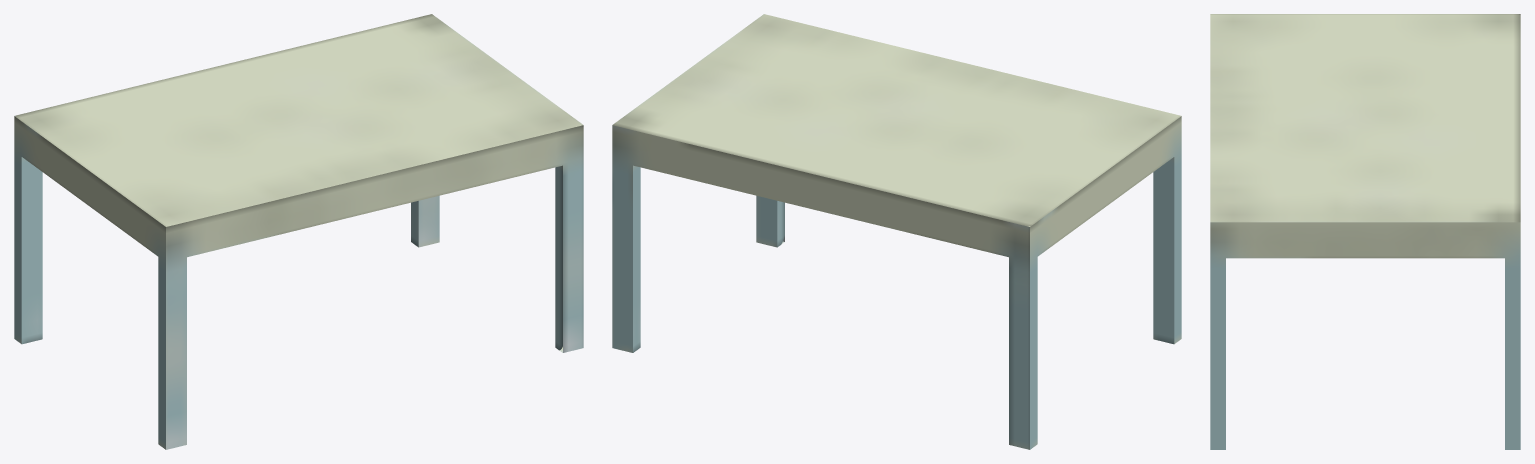
The model's file is table.fbx.
The picture shows the model from 3 angles, left to right: view 1: azimuth 30°, elevation 25°; view 2: azimuth 150°, elevation 25°; view 3: azimuth 270°, elevation 25°; orthographic projection. The views are drawn at different scales.
Parts seen in each view (by area): view 1: Cube; view 2: Cube; view 3: Cube.
Part boxes in pixels (x1,y1,x2,y2): Cube: [14, 14, 583, 449]; Cube: [612, 14, 1181, 449]; Cube: [1210, 14, 1520, 449].
Size of the model in its own units: 835 by 426 by 526.
1 material, 1 textured.
